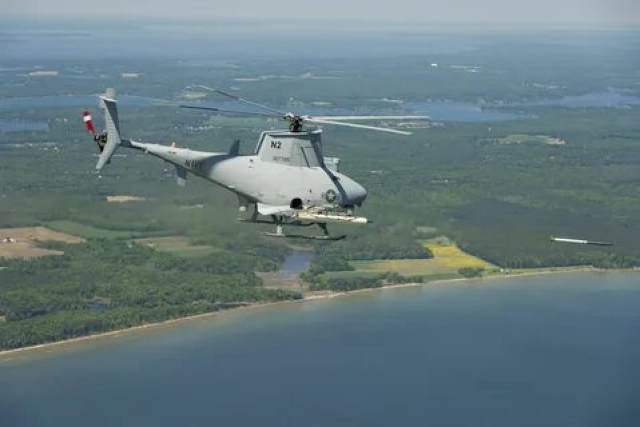military drone: (94, 84, 430, 240)
